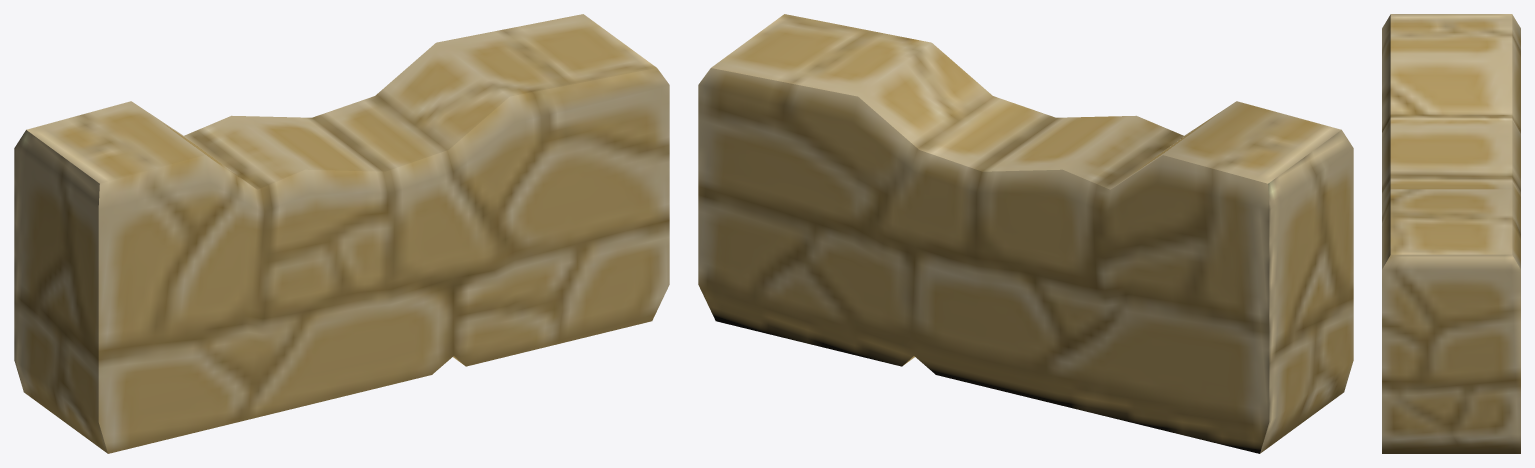
Rendered from Wall1.fbx.
3 renders of one model, left to right at view 1: azimuth 30°, elevation 25°; view 2: azimuth 150°, elevation 25°; view 3: azimuth 270°, elevation 25°, orthographic. The views are drawn at different scales.
Visible parts, largest first — view 1: pCube23; view 2: pCube23; view 3: pCube23.
Boxes of the visible parts, bbox=[...] form: pCube23: bbox=[14, 14, 669, 453]; pCube23: bbox=[698, 14, 1353, 453]; pCube23: bbox=[1382, 14, 1520, 453].
Size of the model in its own units: 2.07 by 0.9348 by 0.5286.
